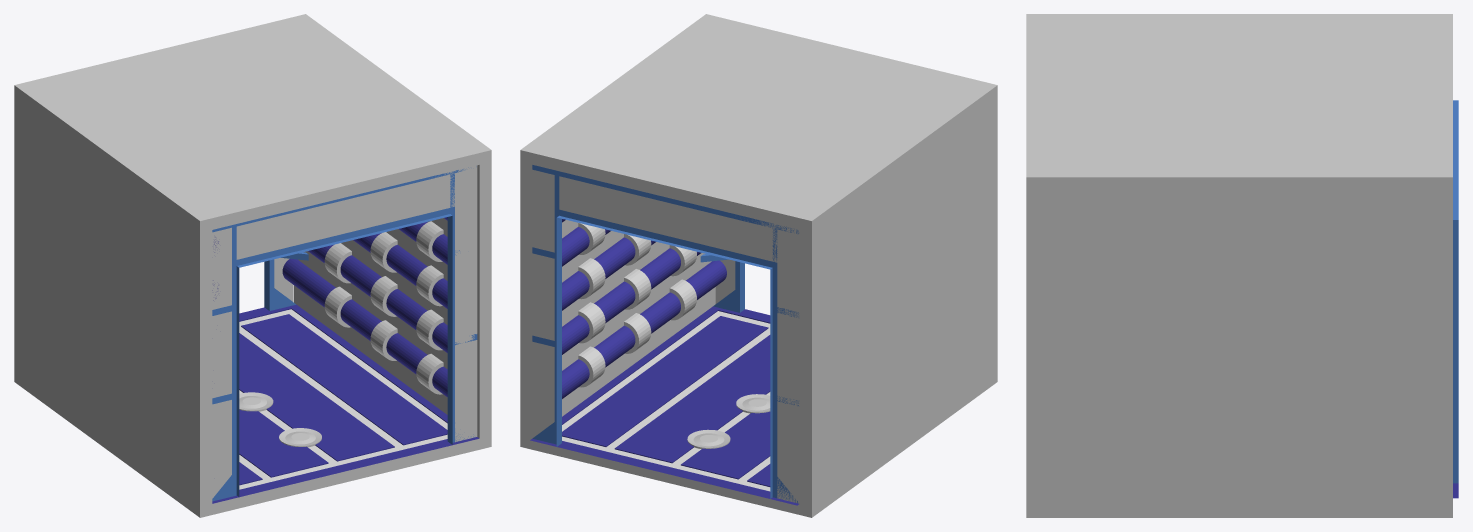
File: Corridor2Door.fbx
3 renders of one model, left to right at view 1: azimuth 30°, elevation 25°; view 2: azimuth 150°, elevation 25°; view 3: azimuth 270°, elevation 25°, orthographic. The views are drawn at different scales.
Parts seen in each view (by area): view 1: Cube; view 2: Cube; view 3: Cube.
Boxes of the visible parts, bbox=[...] form: Cube: bbox=[14, 14, 491, 517]; Cube: bbox=[520, 14, 997, 517]; Cube: bbox=[1026, 14, 1458, 517].
Size of the model in its own units: 691 by 672 by 773.
